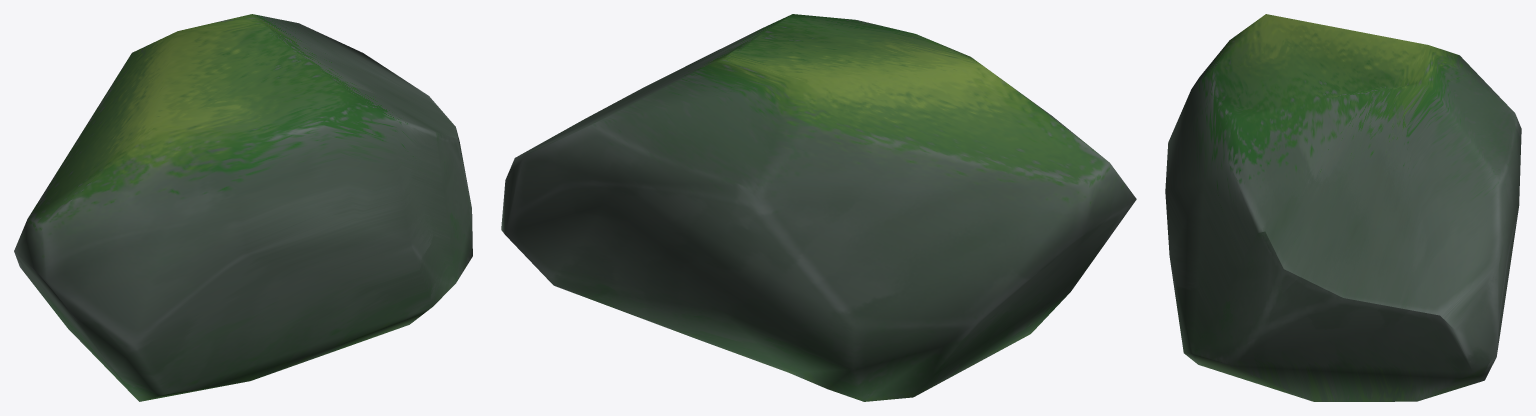
Rendered from Stone3_v1_moss.fbx.
3 renders of one model, left to right at view 1: azimuth 30°, elevation 25°; view 2: azimuth 150°, elevation 25°; view 3: azimuth 270°, elevation 25°, orthographic. The views are drawn at different scales.
Parts seen in each view (by area): view 1: Stone3_v1_moss; view 2: Stone3_v1_moss; view 3: Stone3_v1_moss.
Part boxes in pixels (x1,y1,x2,y2): Stone3_v1_moss: (14,14,472,401); Stone3_v1_moss: (501,14,1136,401); Stone3_v1_moss: (1165,14,1521,401).
Size of the model in its own units: 200 by 108 by 121.
1 material, 1 textured.
